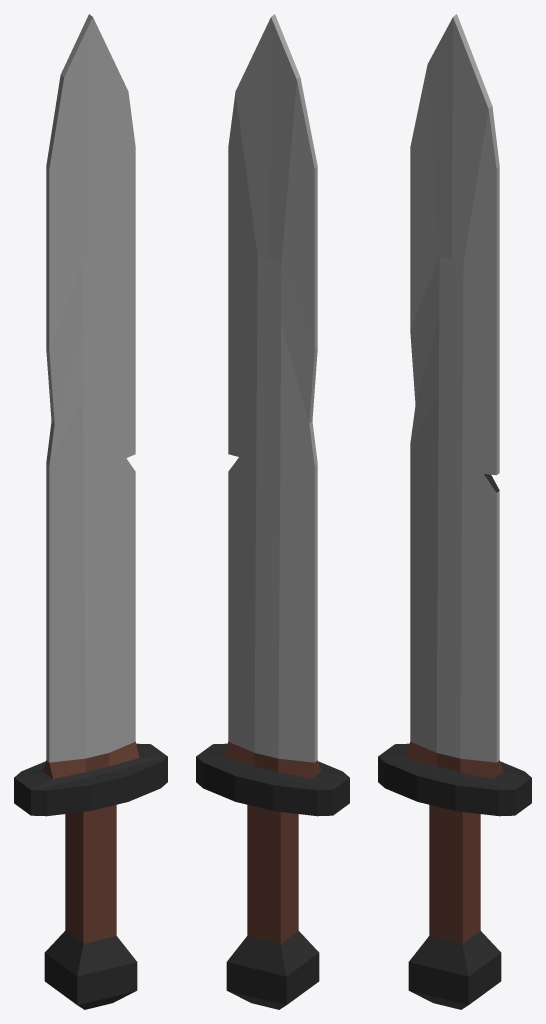
File: LowpolySword.fbx
3 renders of one model, left to right at view 1: azimuth 30°, elevation 25°; view 2: azimuth 150°, elevation 25°; view 3: azimuth 330°, elevation 25°, orthographic.
Visible parts, largest first — view 1: Cube; view 2: Cube; view 3: Cube.
Part boxes in pixels (x1=…): Cube: x1=14, y1=14, x2=167, y2=1009; Cube: x1=196, y1=14, x2=349, y2=1009; Cube: x1=378, y1=14, x2=531, y2=1009.
Bounding box in the file's own units: 19.26 × 133 × 9.05.
